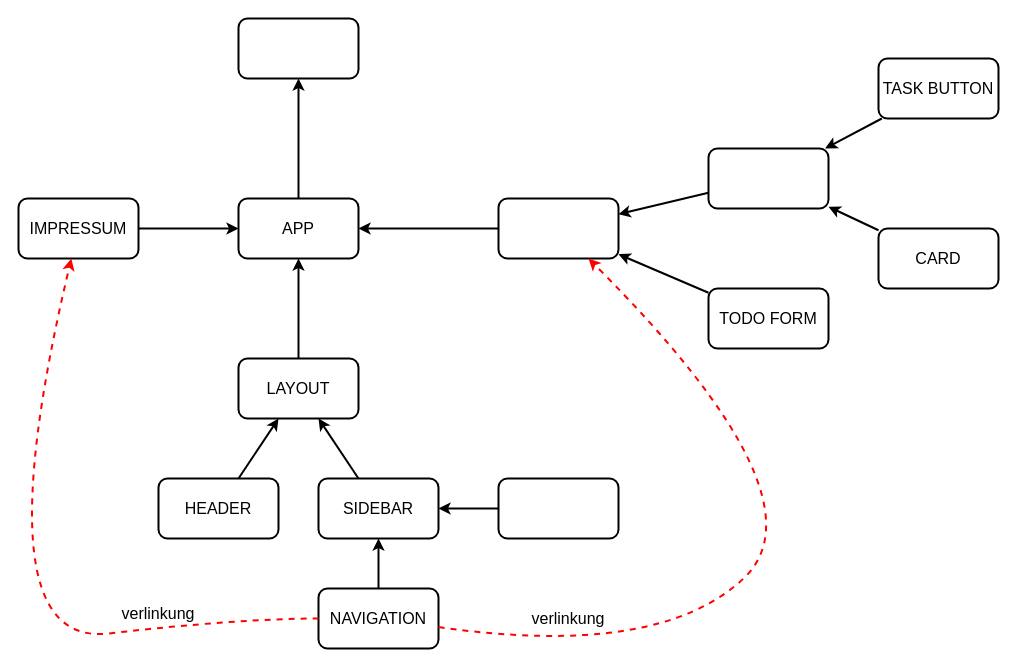
The diagram is 1016 pixels wide and 666 high, and some of its shapes have lost their labels. Here are the shapes that lost their labels. From the top down, the centre of each, then its label:
At [298,48]: "MAIN".
At [768,178]: "TASK".
At [558,228]: "HOME".
At [558,508]: "TITLE".
